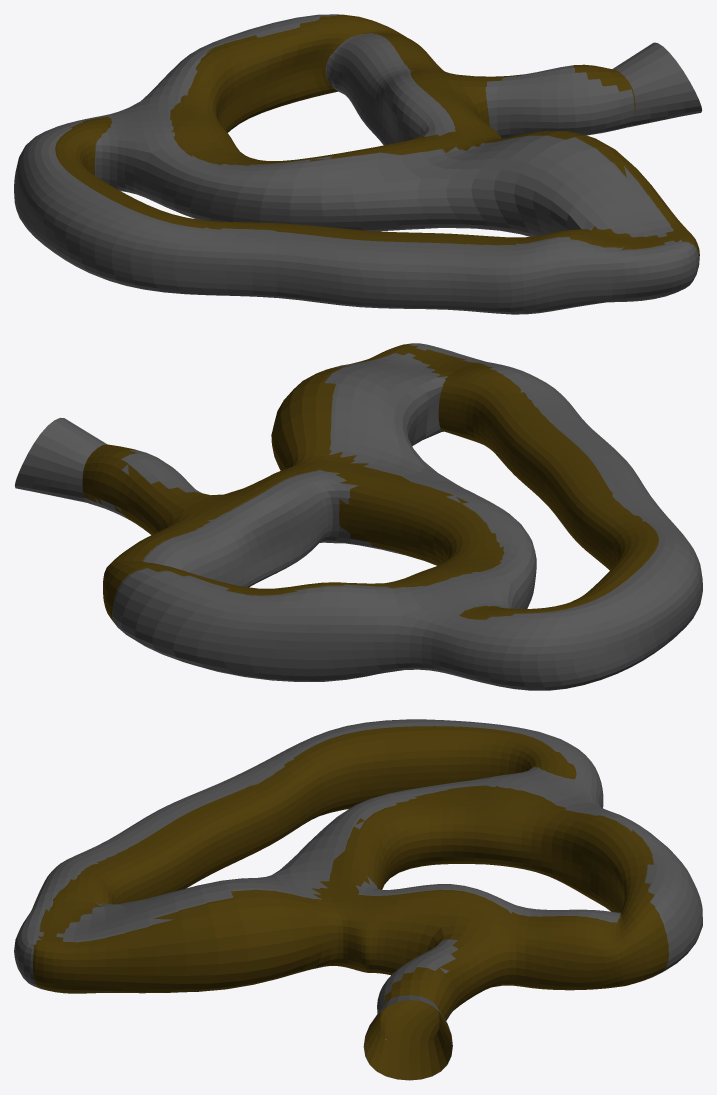
File: Simple Low Poly Cave Grey.fbx
3 views of the same model, one above another, from view 1: azimuth 30°, elevation 25°; view 2: azimuth 150°, elevation 25°; view 3: azimuth 270°, elevation 25° (orthographic). The views are drawn at different scales.
Visible parts, largest first — view 1: Interior, Esterior; view 2: Interior, Esterior; view 3: Esterior, Interior.
Part boxes in pixels (x1,y1,x2,y2): Interior: (14, 14, 702, 314); Esterior: (55, 14, 699, 267); Interior: (14, 343, 702, 690); Esterior: (82, 344, 658, 621); Esterior: (33, 726, 668, 1080); Interior: (14, 719, 702, 1080).
Size of the model in its own units: 8042 by 1204 by 7462.
